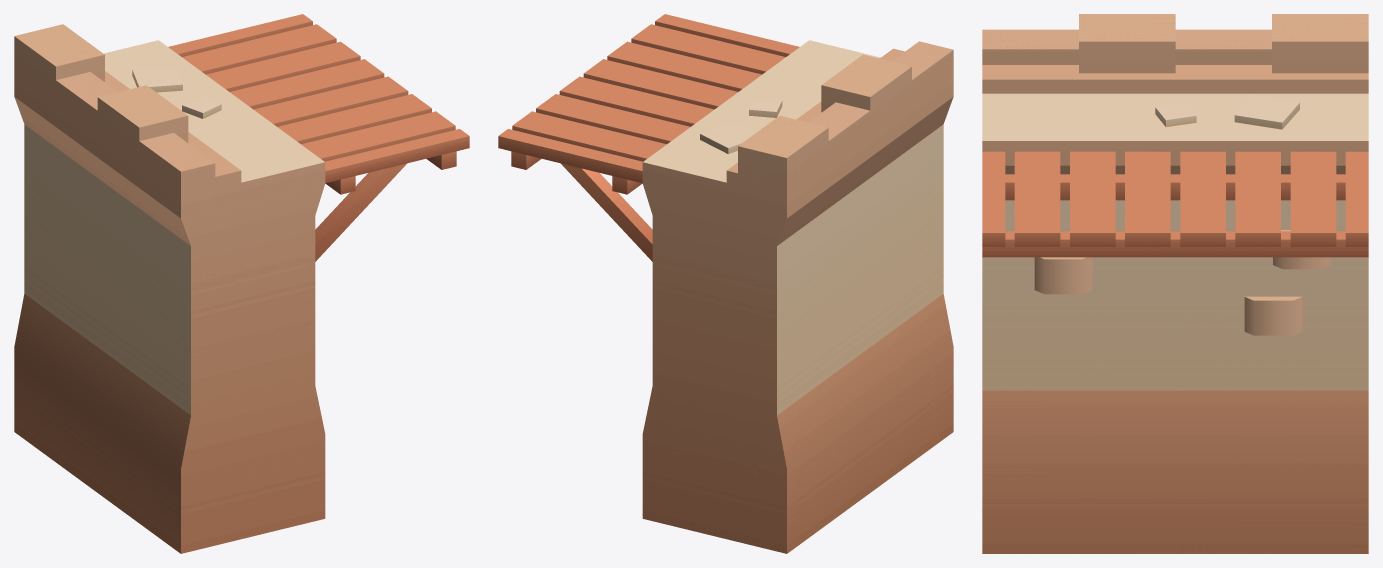
The model's file is wall-narrow-wood.glb.
3 views of the same model, side by side, from view 1: azimuth 30°, elevation 25°; view 2: azimuth 150°, elevation 25°; view 3: azimuth 270°, elevation 25° (orthographic). The views are drawn at different scales.
Visible parts, largest first — view 1: wall-narrow-wood; view 2: wall-narrow-wood; view 3: wall-narrow-wood.
Boxes of the visible parts, x1,y1,x2,y2 form: wall-narrow-wood: (14, 14, 469, 553); wall-narrow-wood: (498, 14, 953, 553); wall-narrow-wood: (982, 14, 1368, 553).
Size of the model in its own units: 1 by 1.31 by 1.
1 material, 1 textured.
